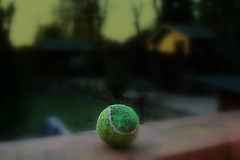tennis ball: (95, 102, 143, 150)
